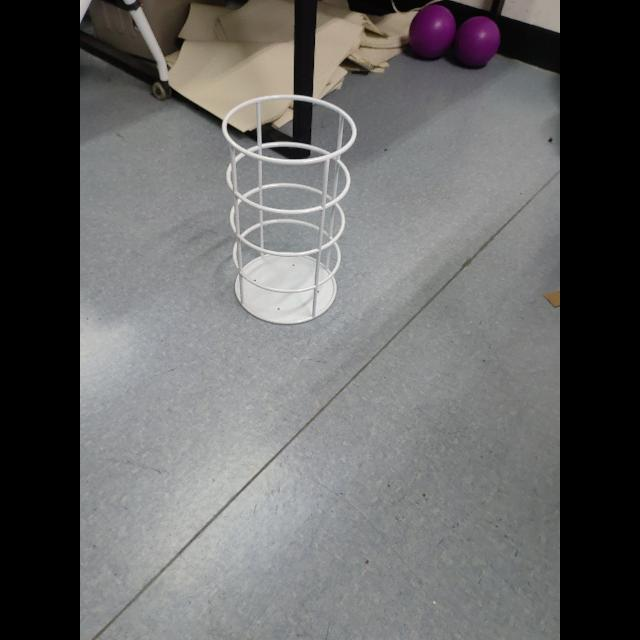S: (218, 92, 360, 328)
